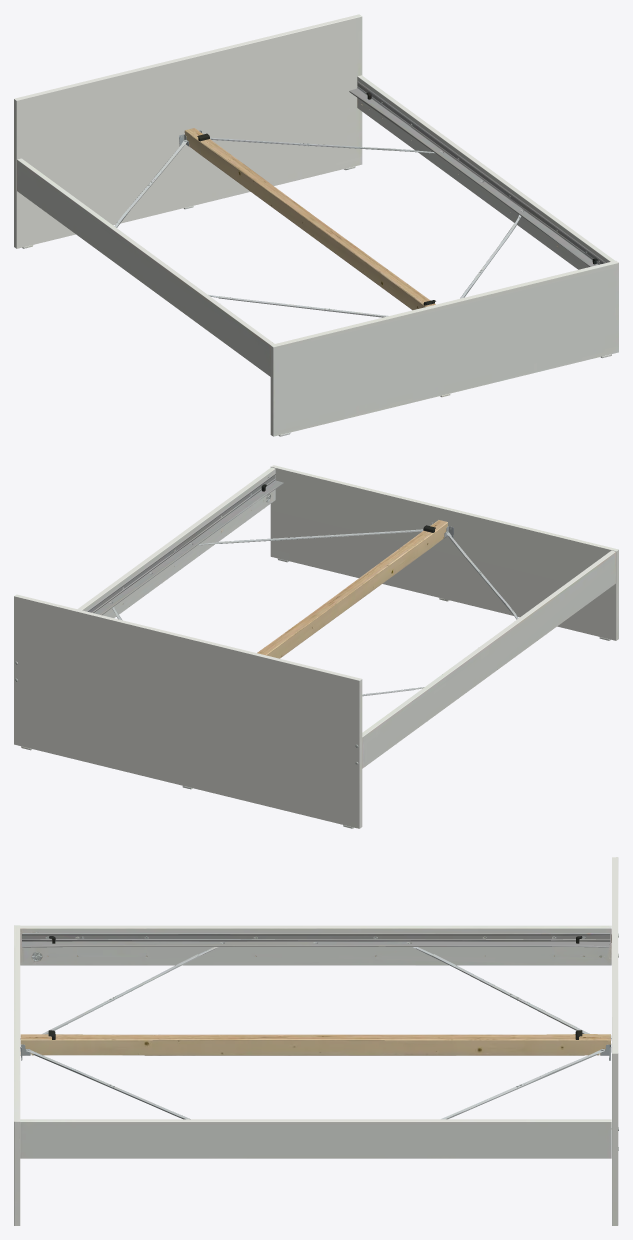
File: vihals_bed_frame_white.glb
The picture shows the model from 3 angles, top to bottom: view 1: azimuth 30°, elevation 25°; view 2: azimuth 150°, elevation 25°; view 3: azimuth 270°, elevation 25°; orthographic projection. The views are drawn at different scales.
Visible parts, largest first — view 1: geo1; view 2: geo1; view 3: geo1.
Part boxes in pixels (x1,y1,x2,y2): geo1: (14,14,618,436); geo1: (14,465,618,828); geo1: (14,857,618,1225).
Bounding box in the file's own units: 1.59 × 0.6583 × 2.06.
Materials: 1 (1 with a texture image).
